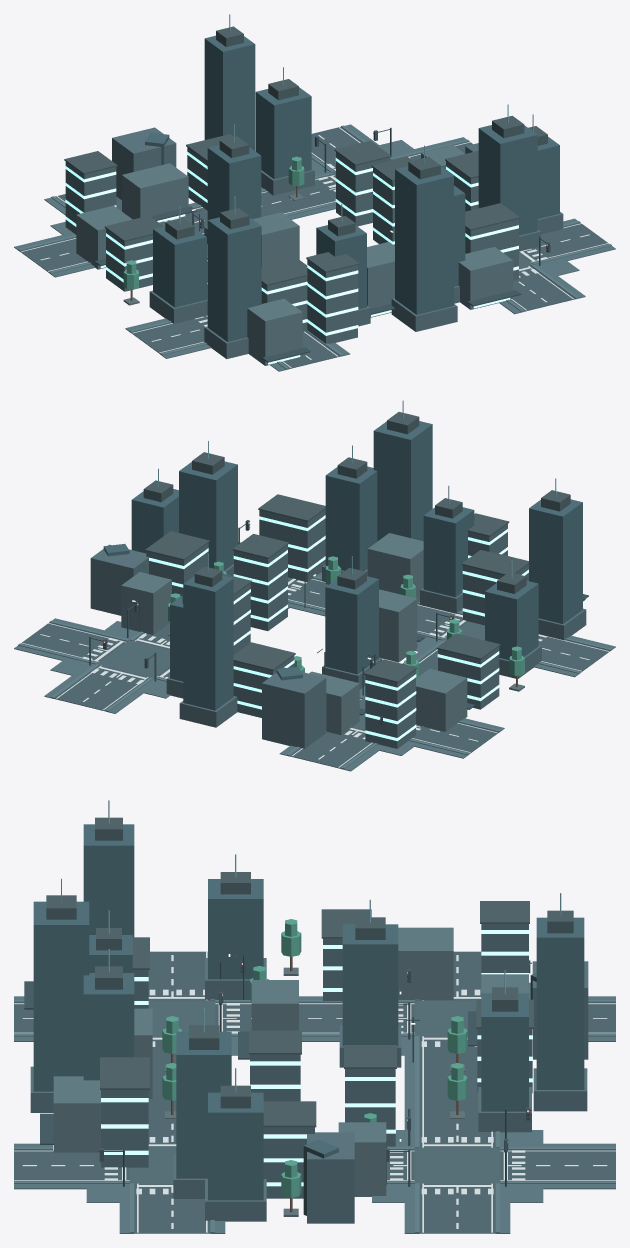
File: urban_grid_city.glb
3 views of the same model, one above another, from view 1: azimuth 30°, elevation 25°; view 2: azimuth 150°, elevation 25°; view 3: azimuth 270°, elevation 25° (orthographic). The views are drawn at different scales.
Visible parts, largest first — view 1: B_N09_Shaft, B_N01_Shaft, B_S05_Shaft, B_E01_Shaft, B_S01_Shaft, B_W01_Shaft, B_C03_Shaft, B_N08_Main, B_S03_Main, B_N07_Main, B_N10_Main, B_S06_Main (+38 smaller); view 2: B_S05_Shaft, B_N09_Shaft, B_N01_Shaft, B_E01_Shaft, B_N05_Shaft, B_C03_Shaft, B_S06_Main, B_N03_Shaft, B_W01_Shaft, B_S04_Main, B_W03_Main, B_N04_Main (+35 smaller); view 3: B_N09_Shaft, B_S05_Shaft, B_C03_Shaft, B_E04_Shaft, B_E01_Shaft, Road_Eastbound_South_Asphalt, B_S01_Shaft, B_W01_Shaft, B_N01_Shaft, B_N05_Shaft, B_W03_Main, B_E05_Main (+54 smaller).
Part boxes in pixels (left/top/right/bottom): B_N09_Shaft: left=395, top=166, right=453, bottom=314; B_N01_Shaft: left=207, top=217, right=261, bottom=341; B_S05_Shaft: left=204, top=35, right=255, bottom=150; B_E01_Shaft: left=478, top=125, right=537, bottom=235; B_S01_Shaft: left=255, top=87, right=311, bottom=179; B_W01_Shaft: left=153, top=226, right=206, bottom=307; B_C03_Shaft: left=207, top=145, right=261, bottom=219; B_N08_Main: left=307, top=260, right=357, bottom=343; B_S03_Main: left=122, top=163, right=188, bottom=219; B_N07_Main: left=247, top=298, right=302, bottom=365; B_N10_Main: left=458, top=247, right=513, bottom=309; B_S06_Main: left=112, top=127, right=176, bottom=199; B_S05_Shaft: left=183, top=575, right=233, bottom=710; B_N09_Shaft: left=373, top=421, right=432, bottom=541; B_N01_Shaft: left=529, top=499, right=582, bottom=623; B_E01_Shaft: left=179, top=461, right=237, bottom=570; B_N05_Shaft: left=325, top=466, right=377, bottom=571; B_C03_Shaft: left=325, top=576, right=378, bottom=674; B_S06_Main: left=262, top=667, right=326, bottom=748; B_N03_Shaft: left=423, top=507, right=474, bottom=597; B_W01_Shaft: left=485, top=581, right=538, bottom=659; B_S04_Main: left=365, top=670, right=415, bottom=748; B_W03_Main: left=416, top=668, right=467, bottom=731; B_N04_Main: left=367, top=533, right=423, bottom=603; B_N09_Shaft: left=33, top=901, right=89, bottom=1091; B_S05_Shaft: left=536, top=917, right=584, bottom=1089; B_C03_Shaft: left=342, top=924, right=398, bottom=1046; B_E04_Shaft: left=208, top=1092, right=263, bottom=1200; B_E01_Shaft: left=176, top=1031, right=231, bottom=1178; Road_Eastbound_South_Asphalt: left=419, top=1036, right=495, bottom=1147; B_S01_Shaft: left=481, top=993, right=528, bottom=1111; B_W01_Shaft: left=208, top=879, right=263, bottom=979; B_N01_Shaft: left=83, top=824, right=134, bottom=937; B_N05_Shaft: left=83, top=973, right=134, bottom=1080; B_W03_Main: left=398, top=927, right=453, bottom=1000; B_E05_Main: left=307, top=1132, right=354, bottom=1223.
Size of what is drawn, in the model's own units: 42 by 15.4 by 38.
